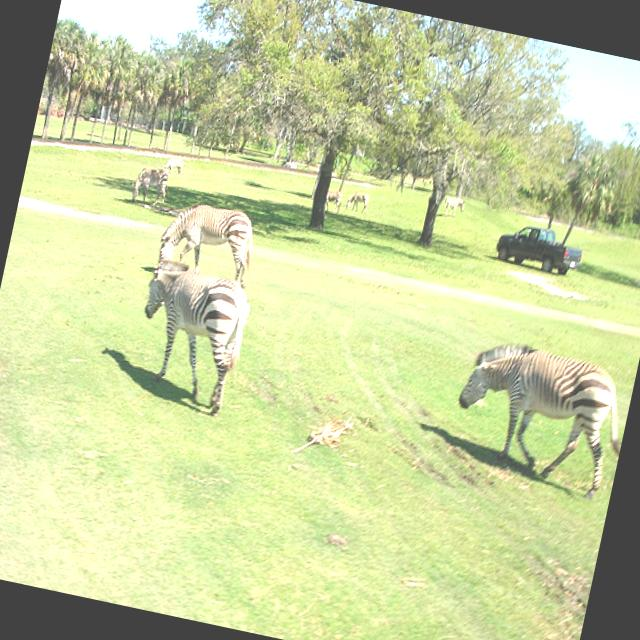Vehicle: (492, 220, 586, 280)
